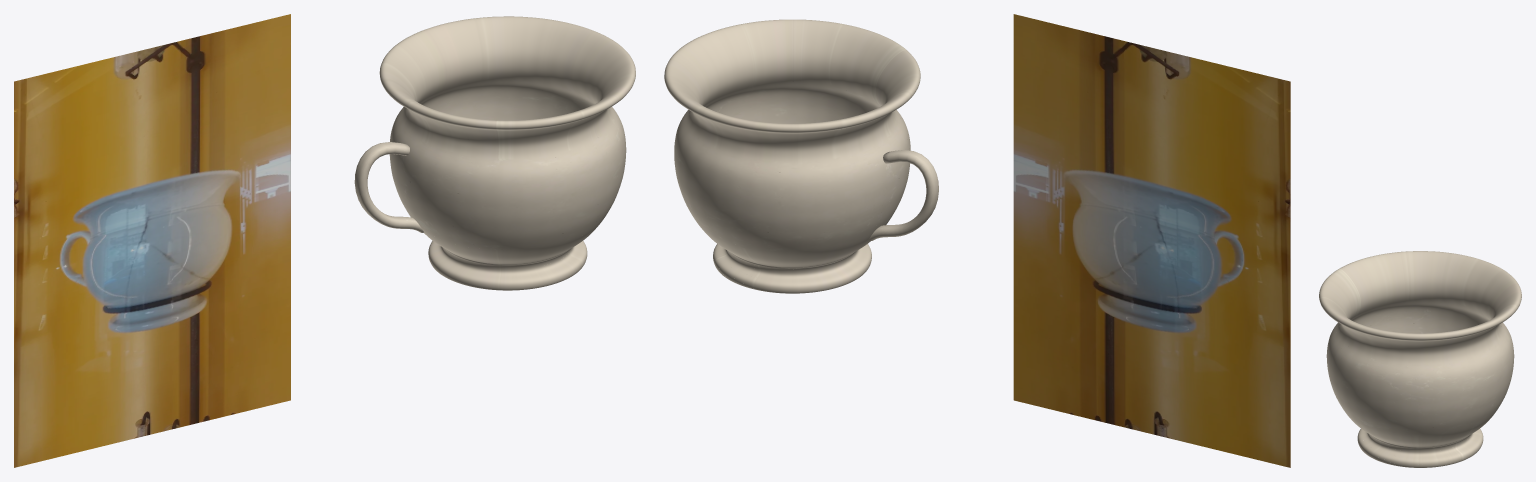
The model's file is bacinilla_de_porcelana_antigua.glb.
3 views of the same model, side by side, from view 1: azimuth 30°, elevation 25°; view 2: azimuth 150°, elevation 25°; view 3: azimuth 270°, elevation 25° (orthographic). The views are drawn at different scales.
Parts seen in each view (by area): view 1: Object_4, Sphere_1, BezierCurve_2; view 2: Object_4, Sphere_1, BezierCurve_2; view 3: Sphere_1.
Part boxes in pixels (x1,y1,x2,y2): Object_4: (14, 14, 290, 467); Sphere_1: (379, 16, 635, 290); BezierCurve_2: (354, 142, 423, 232); Object_4: (1013, 14, 1290, 467); Sphere_1: (664, 19, 920, 293); BezierCurve_2: (868, 150, 938, 240); Sphere_1: (1319, 251, 1521, 467).
Bounding box in the file's own units: 2.19 × 1.33 × 0.8016.
4 materials, 3 textured.
